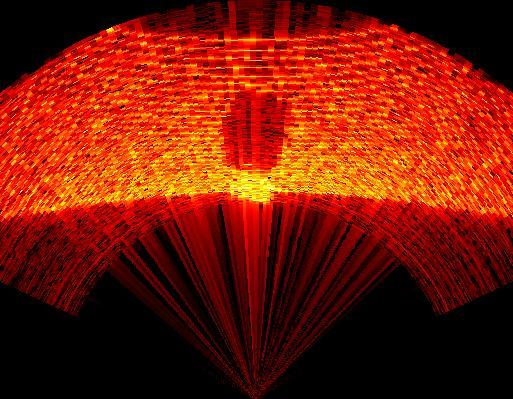box_crate: (220, 86, 282, 170)
